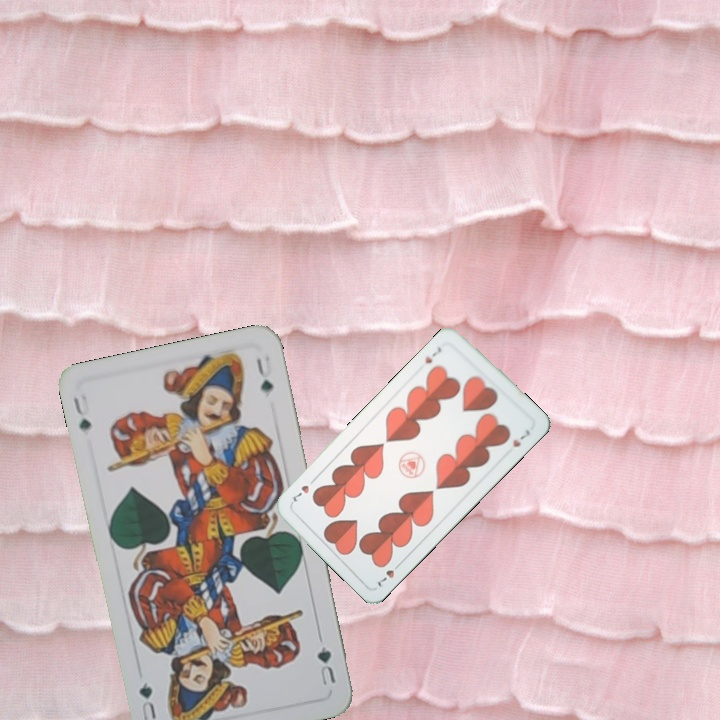GU: (313, 642, 339, 688), (69, 389, 94, 435)
H7: (373, 558, 405, 590), (421, 343, 444, 366)
